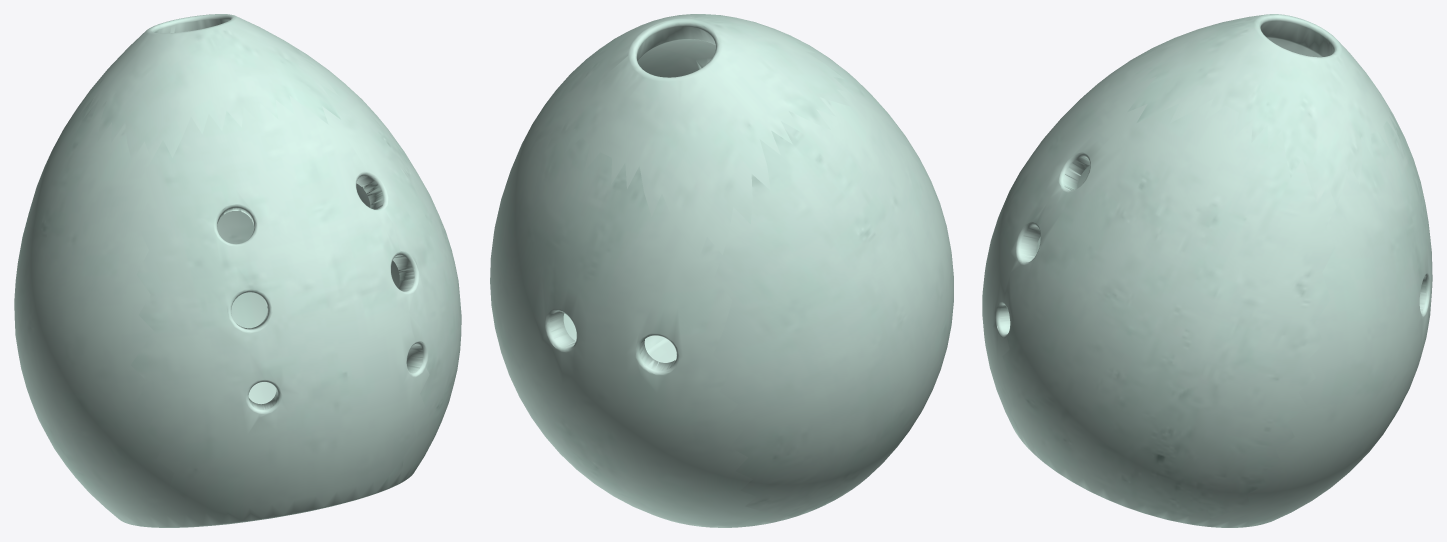
Rendered from xun.glb.
3 renders of one model, left to right at view 1: azimuth 30°, elevation 25°; view 2: azimuth 150°, elevation 25°; view 3: azimuth 270°, elevation 25°, orthographic. The views are drawn at different scales.
Parts seen in each view (by area): view 1: Object_4; view 2: Object_4; view 3: Object_4.
Boxes of the visible parts, x1,y1,x2,y2 form: Object_4: (14,14,461,527); Object_4: (490,14,953,527); Object_4: (982,14,1432,527).
Bounding box in the file's own units: 3.79 × 4.4 × 3.83.
1 material, 1 textured.
